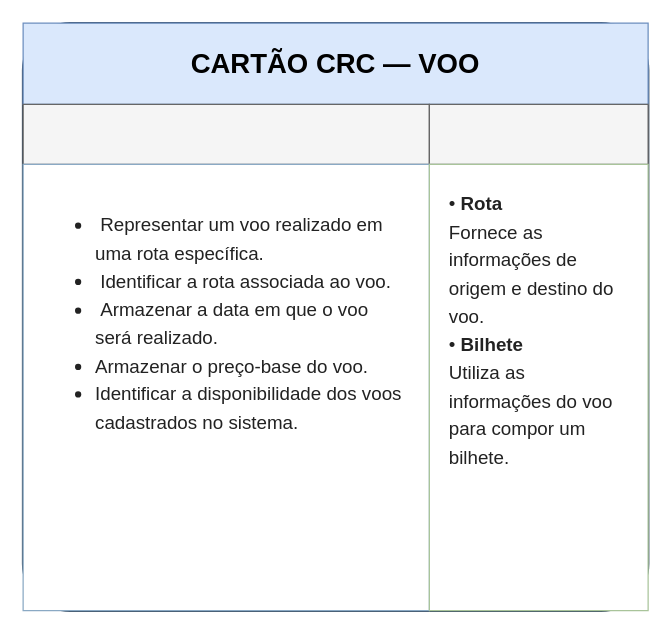
Image size: 670x633. Some labels were removed from this diagram. The centre of each missing label's shape, as x and y in pixels:
COLABORADORES: point 538,133
RESPONSABILIDADES: point 225,133
